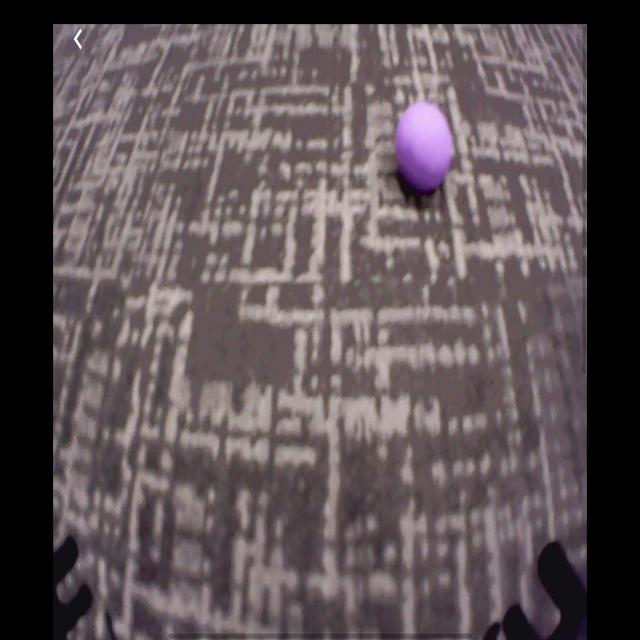ball: (395, 103, 456, 194)
